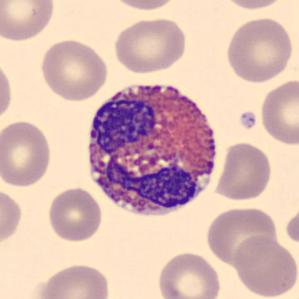Eosinophil: (78, 71, 225, 226)
Platelets: (238, 110, 258, 131)
RBC: (223, 15, 295, 84), (37, 36, 110, 103), (204, 203, 280, 267), (111, 16, 190, 75), (230, 233, 298, 299), (0, 117, 54, 188), (213, 140, 274, 202), (45, 185, 104, 244), (156, 249, 224, 299), (37, 261, 113, 299), (258, 77, 299, 146), (0, 0, 56, 43), (0, 185, 24, 248), (0, 57, 15, 125), (106, 0, 183, 12), (217, 0, 289, 12), (284, 205, 299, 249)
